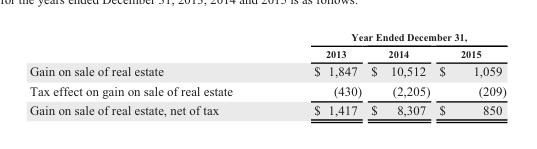table: (29, 29, 505, 118)
table column: (29, 29, 272, 118), (272, 29, 365, 118), (434, 29, 505, 118), (365, 29, 434, 118)
table column header: (29, 29, 505, 61)
table row: (29, 80, 505, 100), (29, 61, 505, 80), (29, 100, 505, 118), (29, 44, 505, 61), (29, 29, 505, 44)
table spanning cell: (272, 29, 505, 44)
